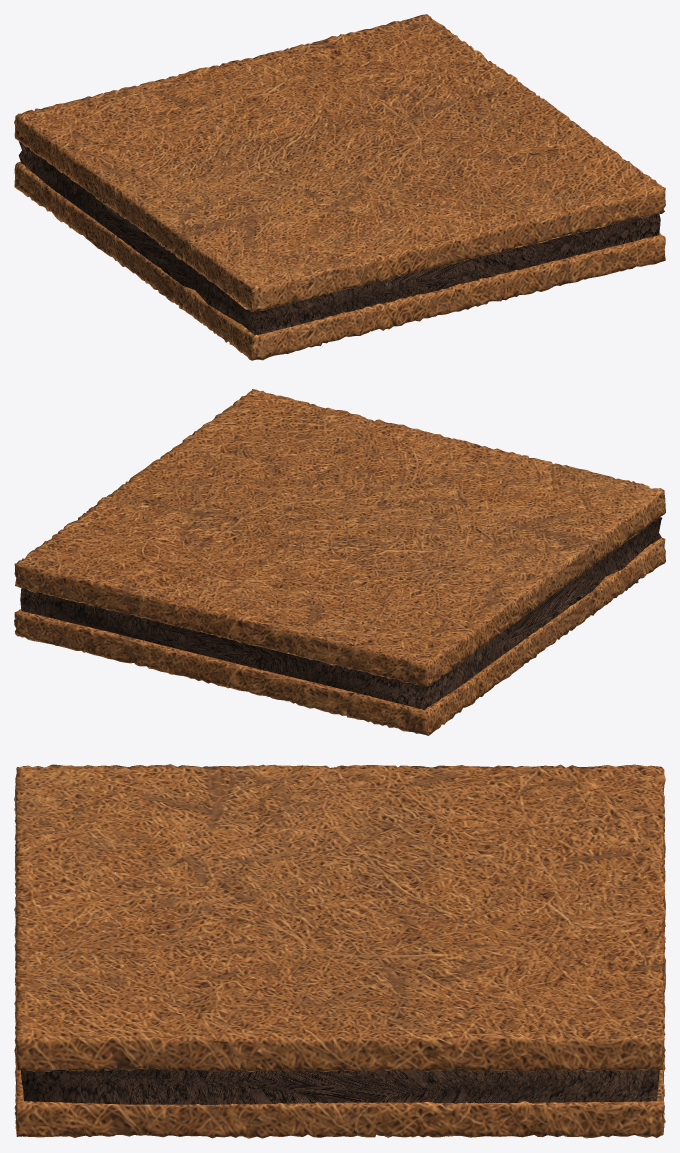
File: Coconut coir insulat.fbx
The picture shows the model from 3 angles, top to bottom: view 1: azimuth 30°, elevation 25°; view 2: azimuth 150°, elevation 25°; view 3: azimuth 270°, elevation 25°; orthographic projection. The views are drawn at different scales.
Visible parts, largest first — view 1: Coconut coir insulation board .001_Baked, Coconut coir insulation board .002_Baked, Coconut coir insulation board _Baked; view 2: Coconut coir insulation board .001_Baked, Coconut coir insulation board .002_Baked, Coconut coir insulation board _Baked; view 3: Coconut coir insulation board .001_Baked, Coconut coir insulation board .002_Baked, Coconut coir insulation board _Baked.
Boxes of the visible parts, x1=… form: Coconut coir insulation board .001_Baked: x1=14, y1=14, x2=665, y2=311; Coconut coir insulation board .002_Baked: x1=14, y1=162, x2=665, y2=360; Coconut coir insulation board _Baked: x1=18, y1=141, x2=660, y2=335; Coconut coir insulation board .001_Baked: x1=14, y1=389, x2=665, y2=686; Coconut coir insulation board .002_Baked: x1=14, y1=532, x2=665, y2=735; Coconut coir insulation board _Baked: x1=20, y1=517, x2=662, y2=709; Coconut coir insulation board .001_Baked: x1=14, y1=764, x2=665, y2=1072; Coconut coir insulation board .002_Baked: x1=14, y1=840, x2=665, y2=1138; Coconut coir insulation board _Baked: x1=21, y1=1068, x2=659, y2=1104.
Bounding box in the file's own units: 203 × 35.55 × 203.
